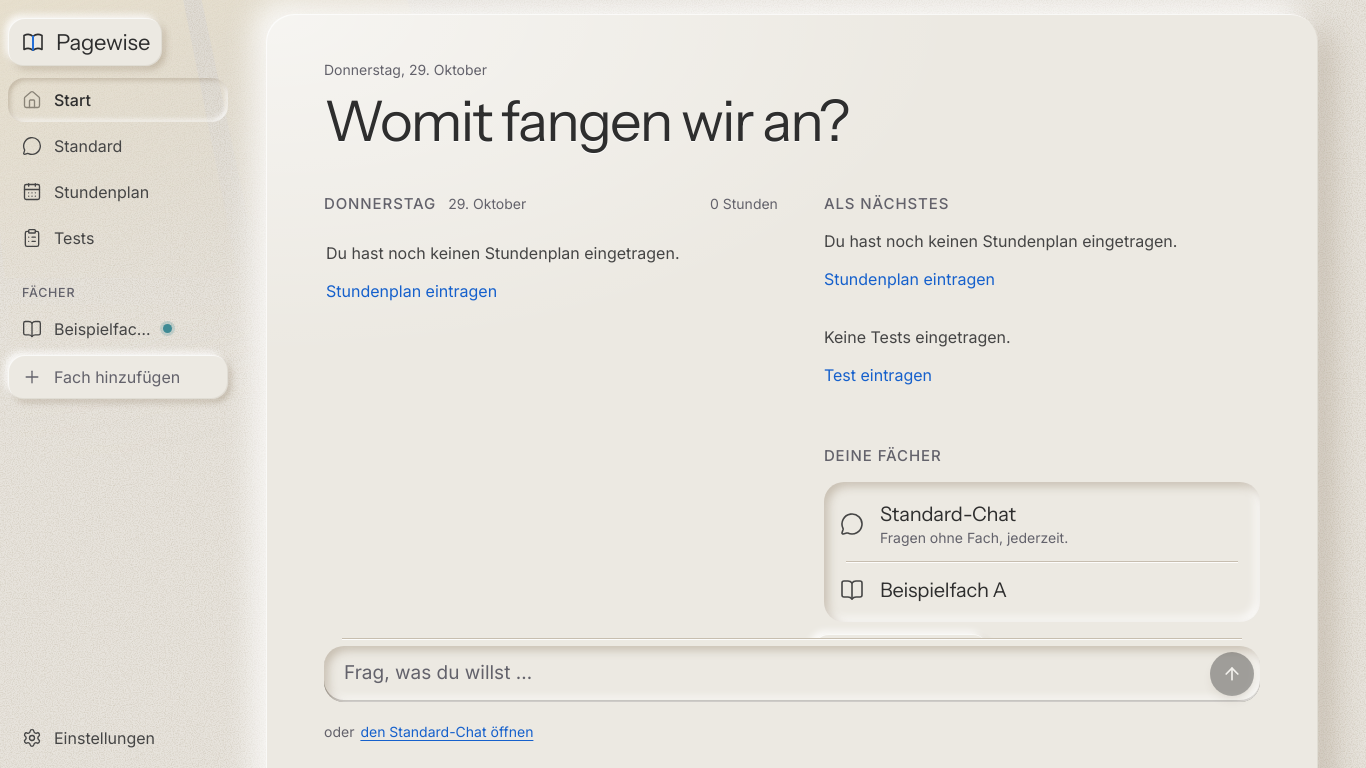
Test case: Fächer anlegen › meldet einen doppelten Namen am Feld
The width and height of the screenshot is (1366, 768).
Click the button "Fach hinzufügen".
click(118, 377)  # box [8,355,228,399]
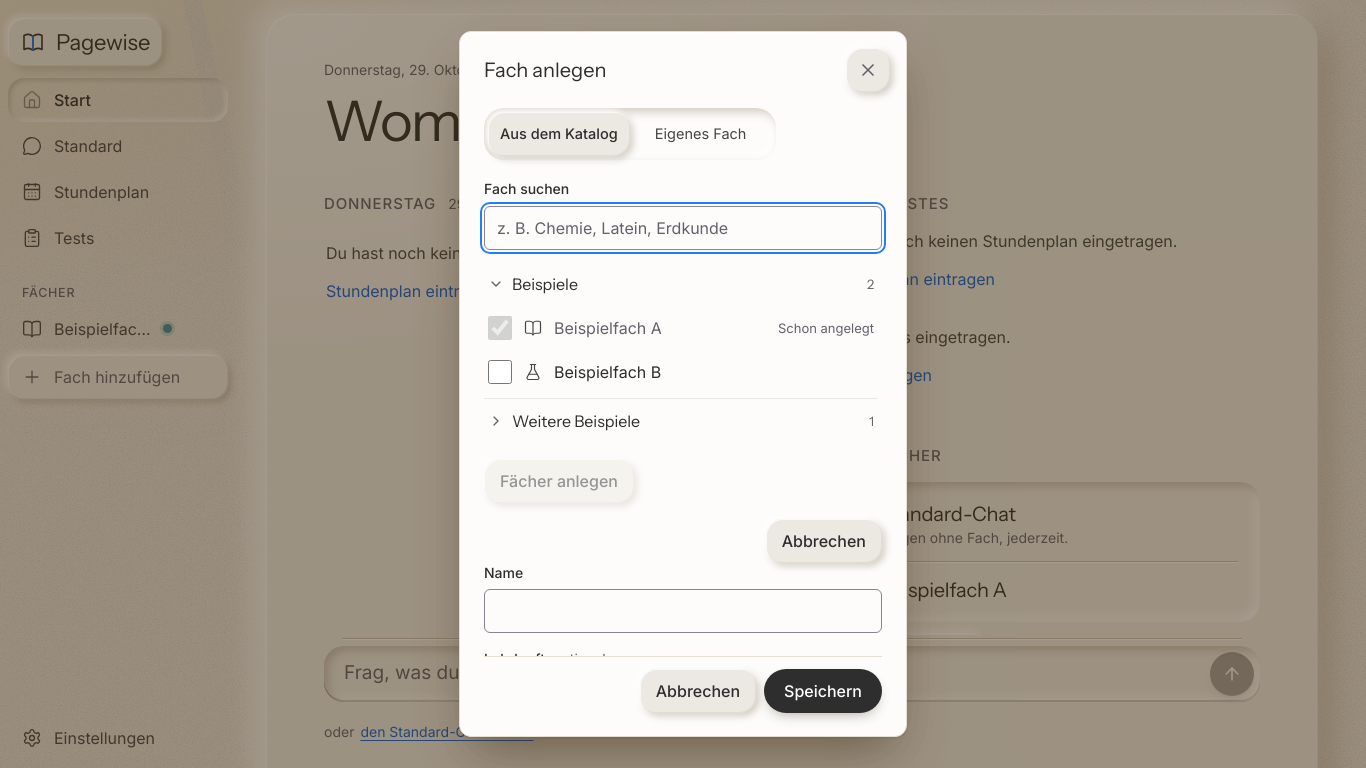
Click the radio button labelled "Eigenes Fach".
click(701, 133)  # box [655,125,746,142]
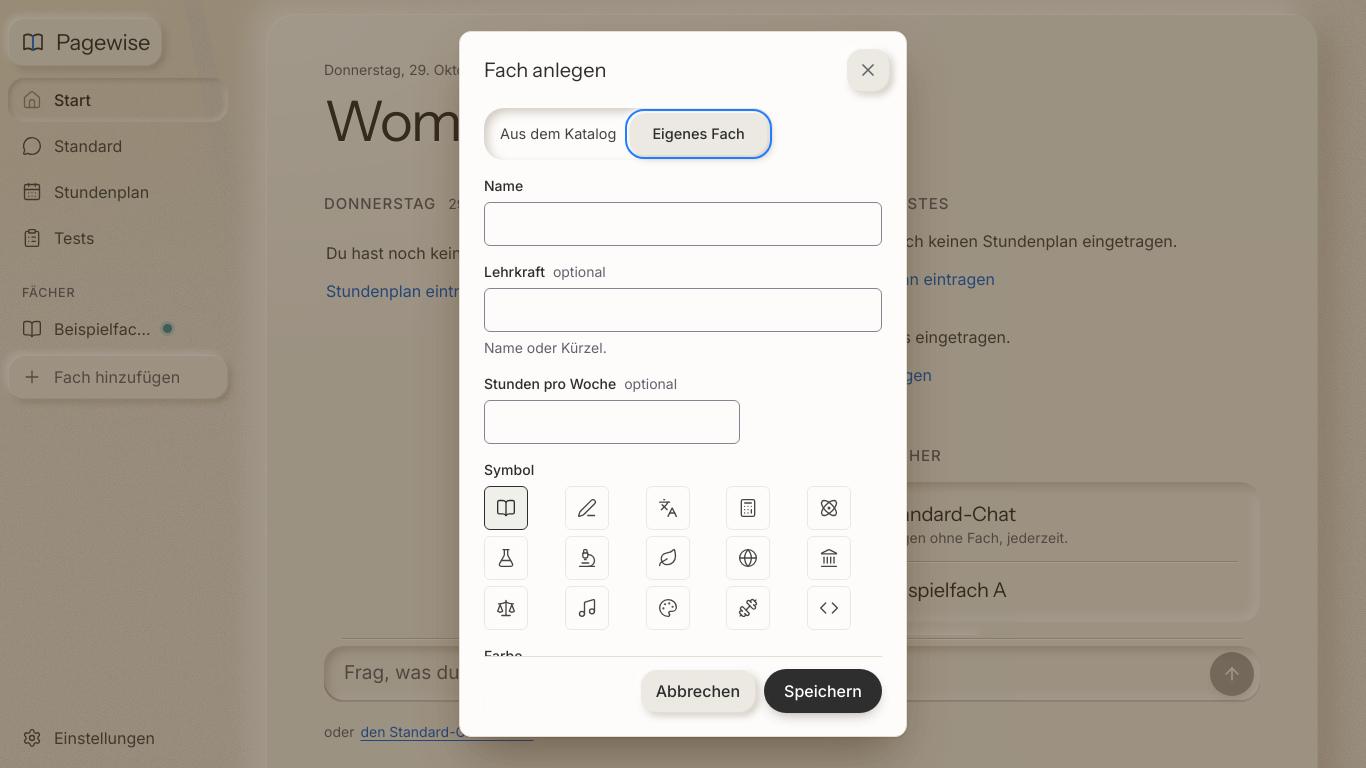
Type "BEISPIELFACH A" into the field labelled "Name".
click(683, 224); type("BEISPIELFACH A")  # box [484,202,882,246]
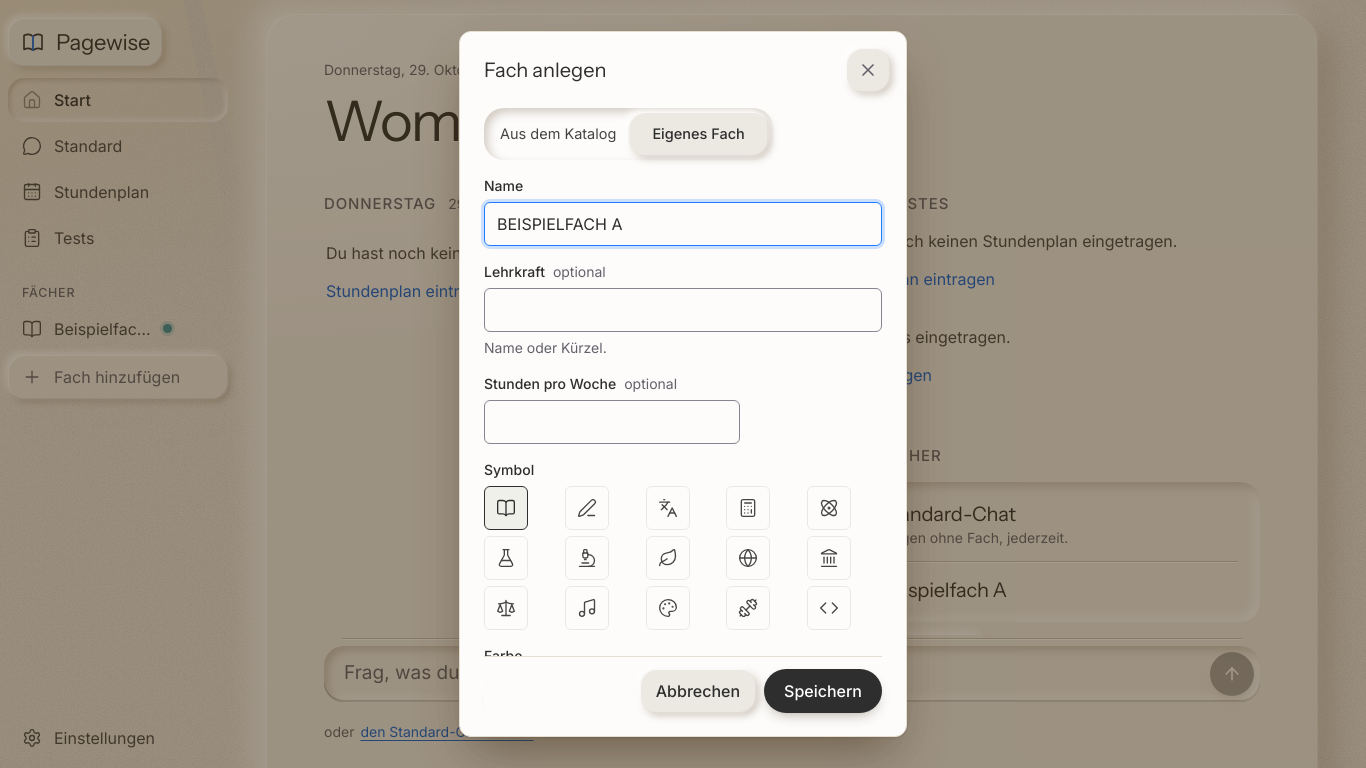
Click the button "Speichern".
click(823, 690)  # box [764,668,882,712]
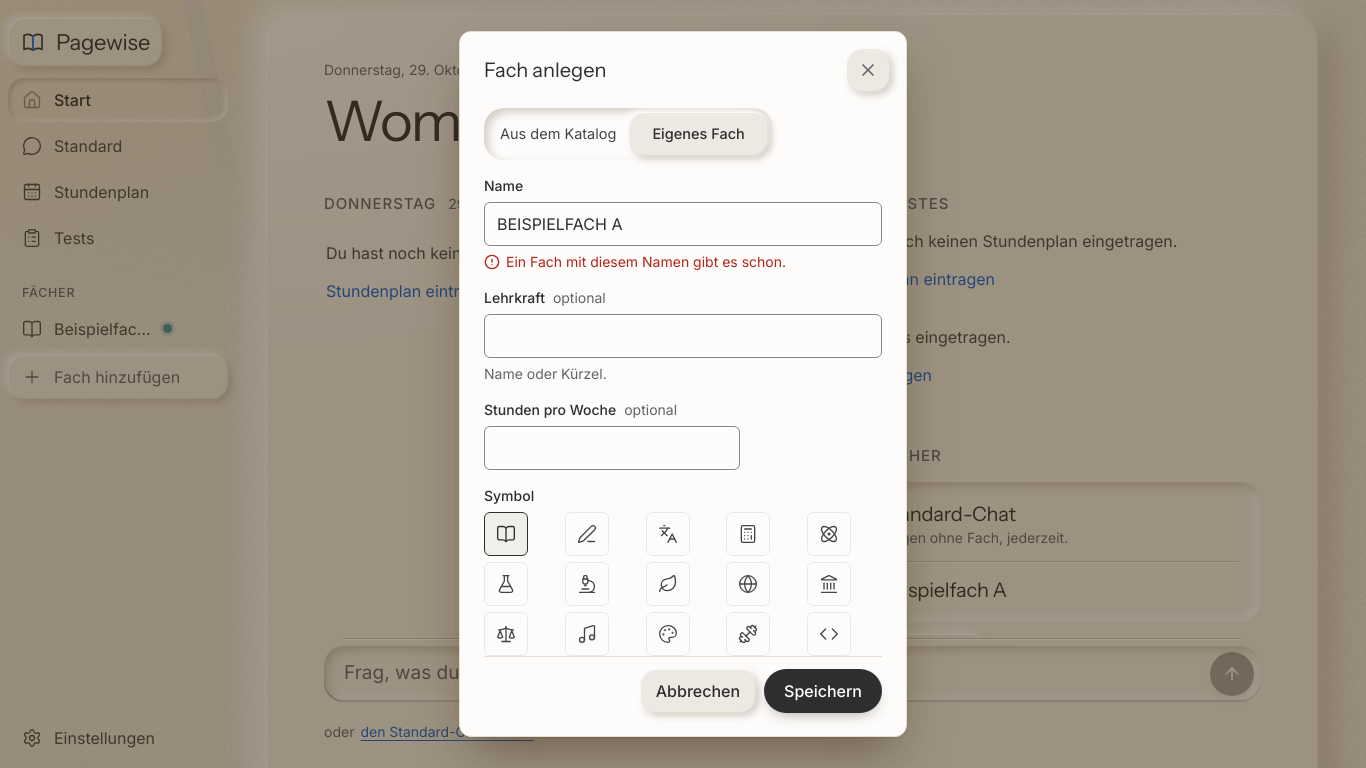
Expected: the text "Ein Fach mit diesem Namen gibt es schon." is shown, [506,252,786,272]
